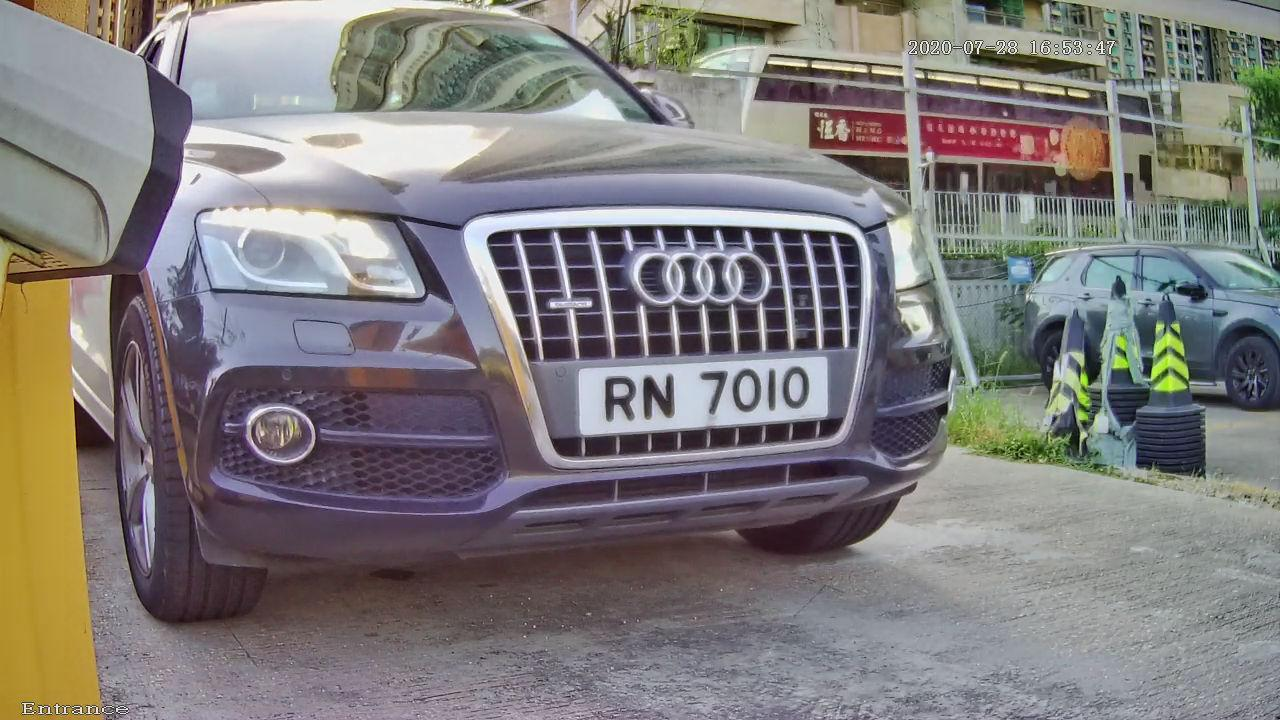privatecar: (23, 10, 1041, 637)
